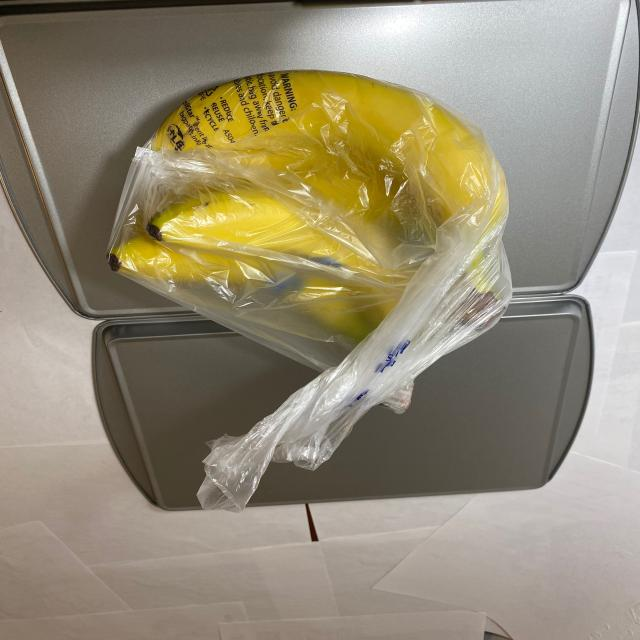banana: (108, 66, 517, 355)
